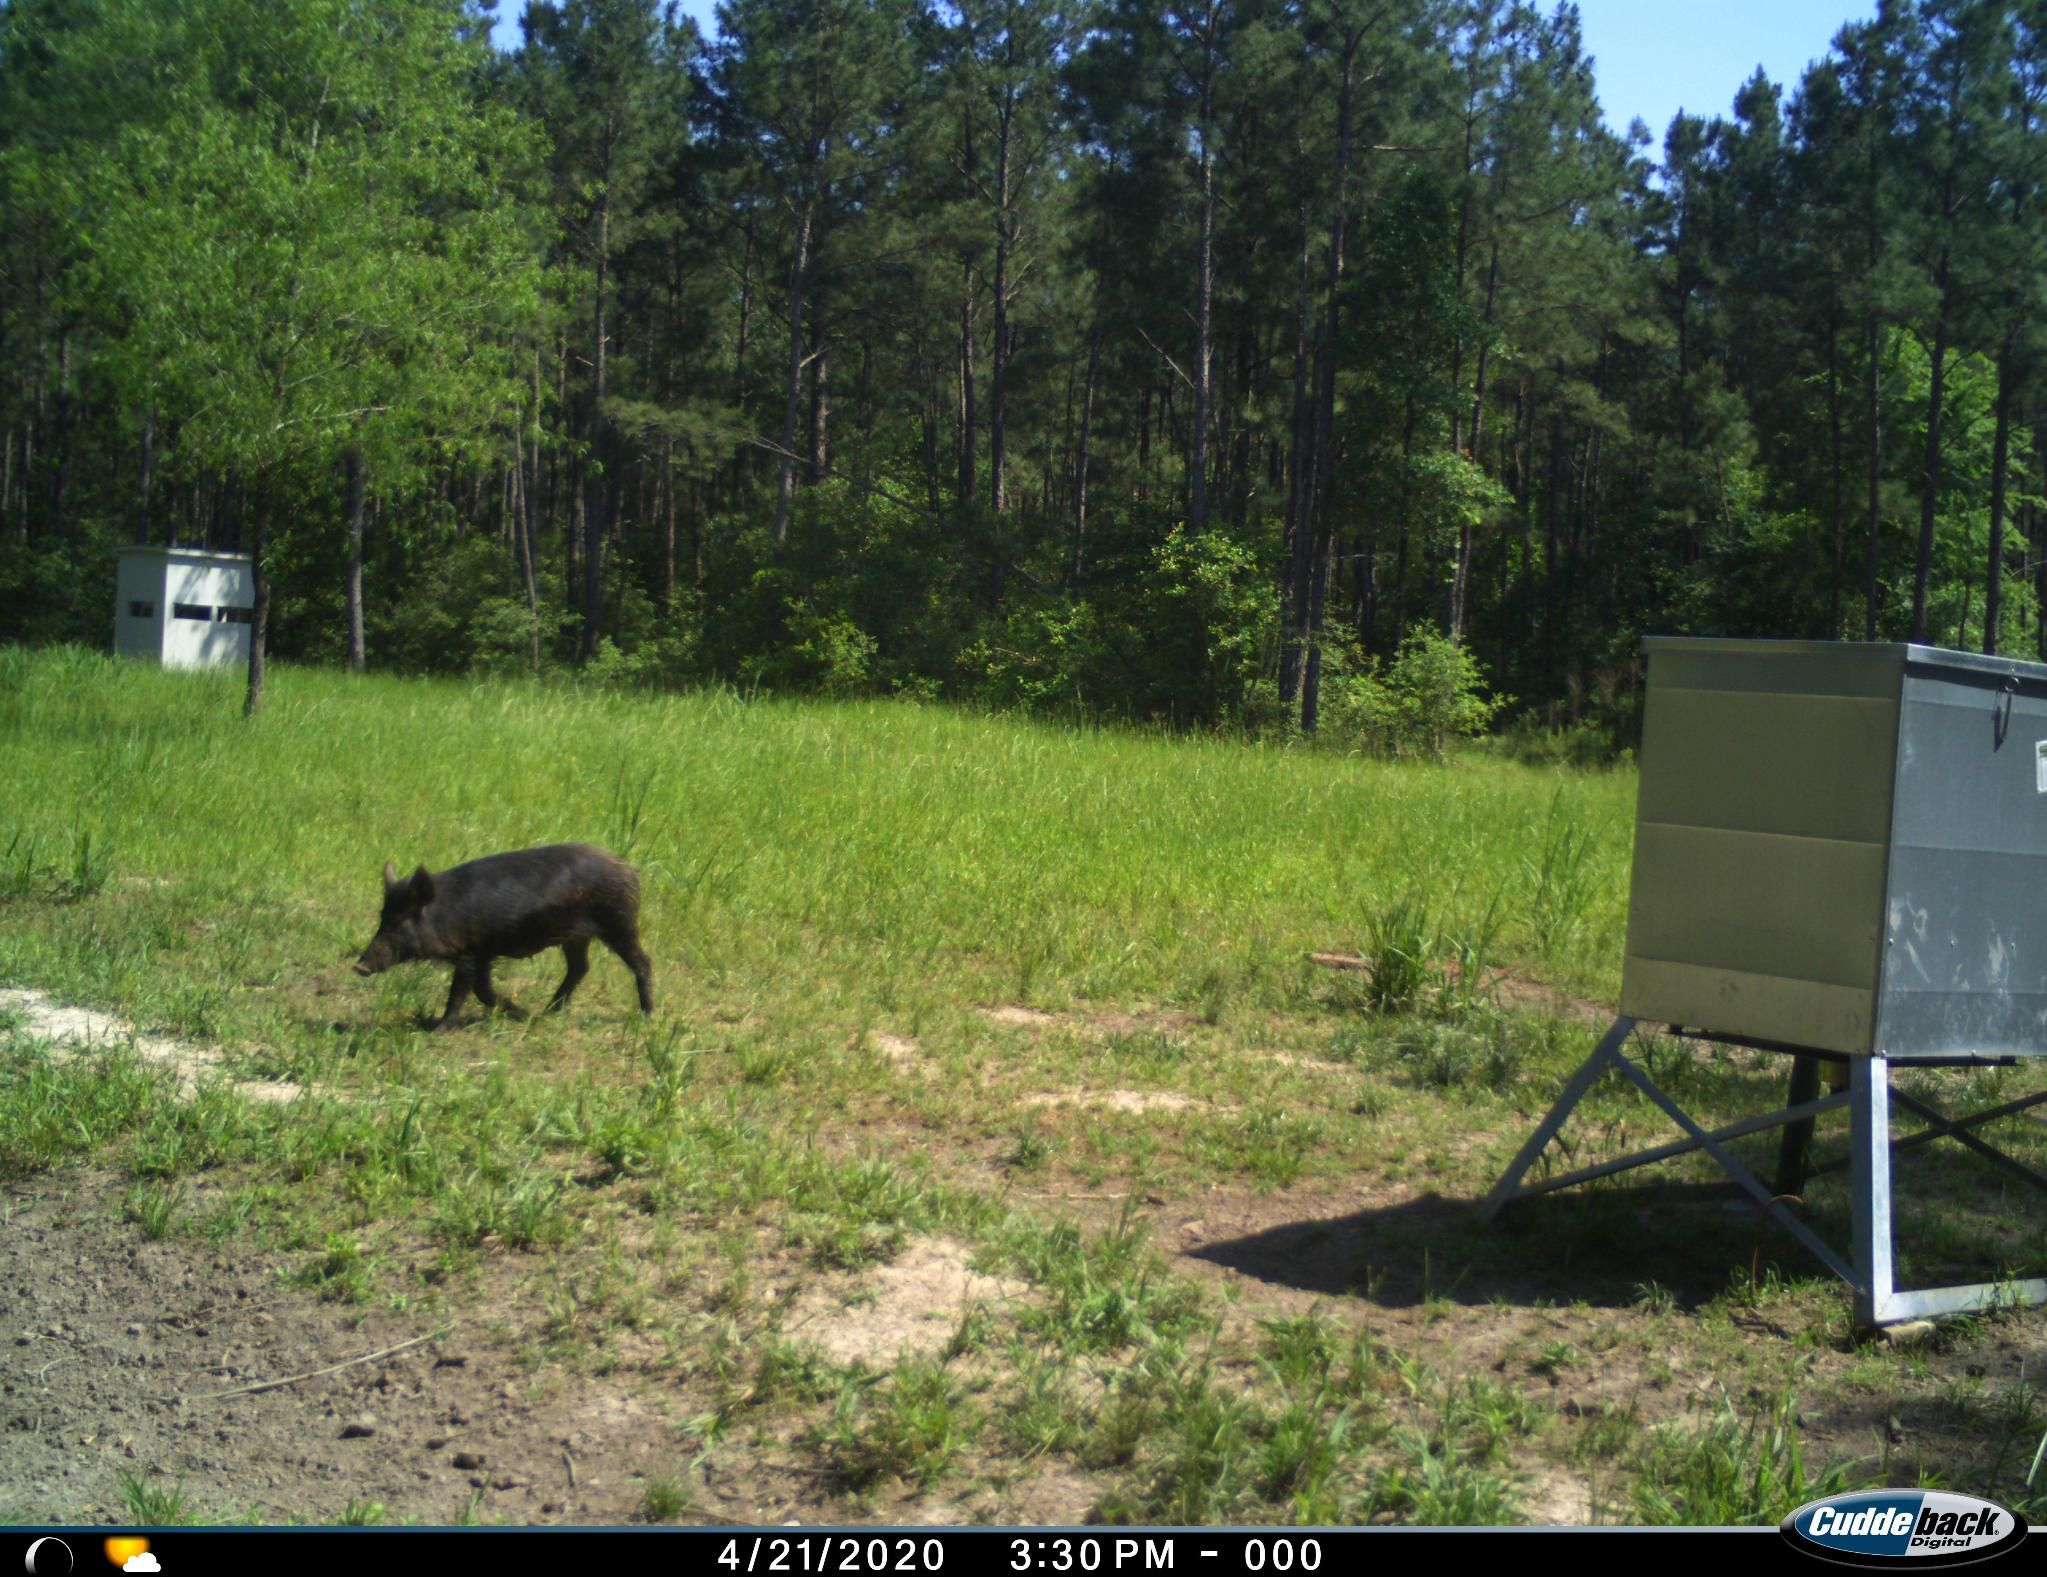Hog: (348, 842, 672, 1027)
